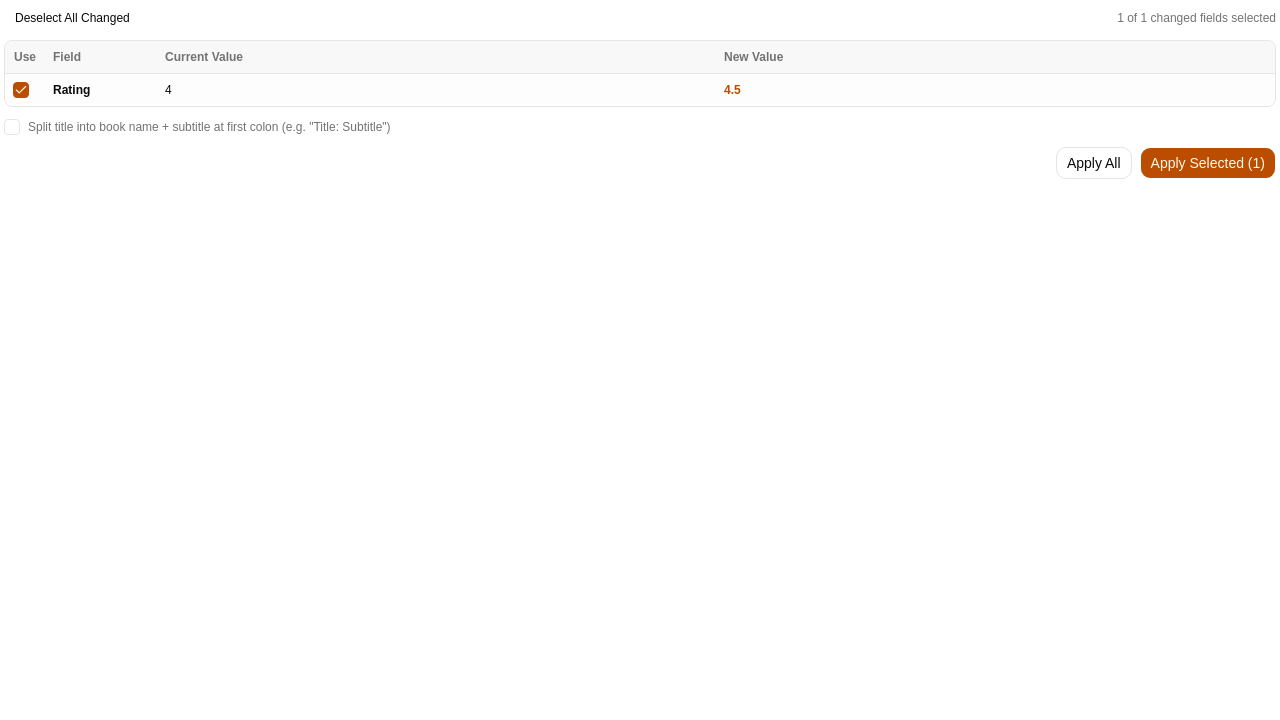
PendingRefreshRowPanel › target path collision › applies nothing when the user cancels the dialog
The width and height of the screenshot is (1280, 720).
Click the button "Apply Selected (1)" at (1208, 163), box [1140,147,1276,179]
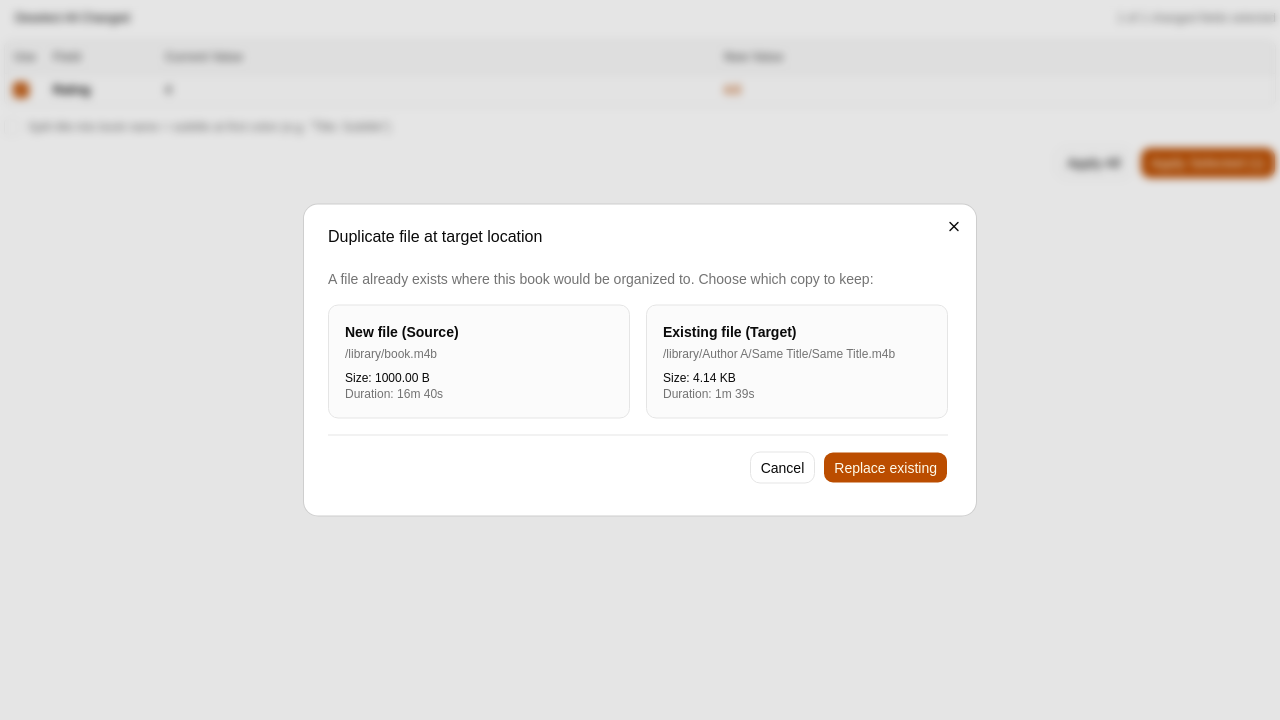
Click the button "Cancel" at (782, 468), box [750,452,815,484]
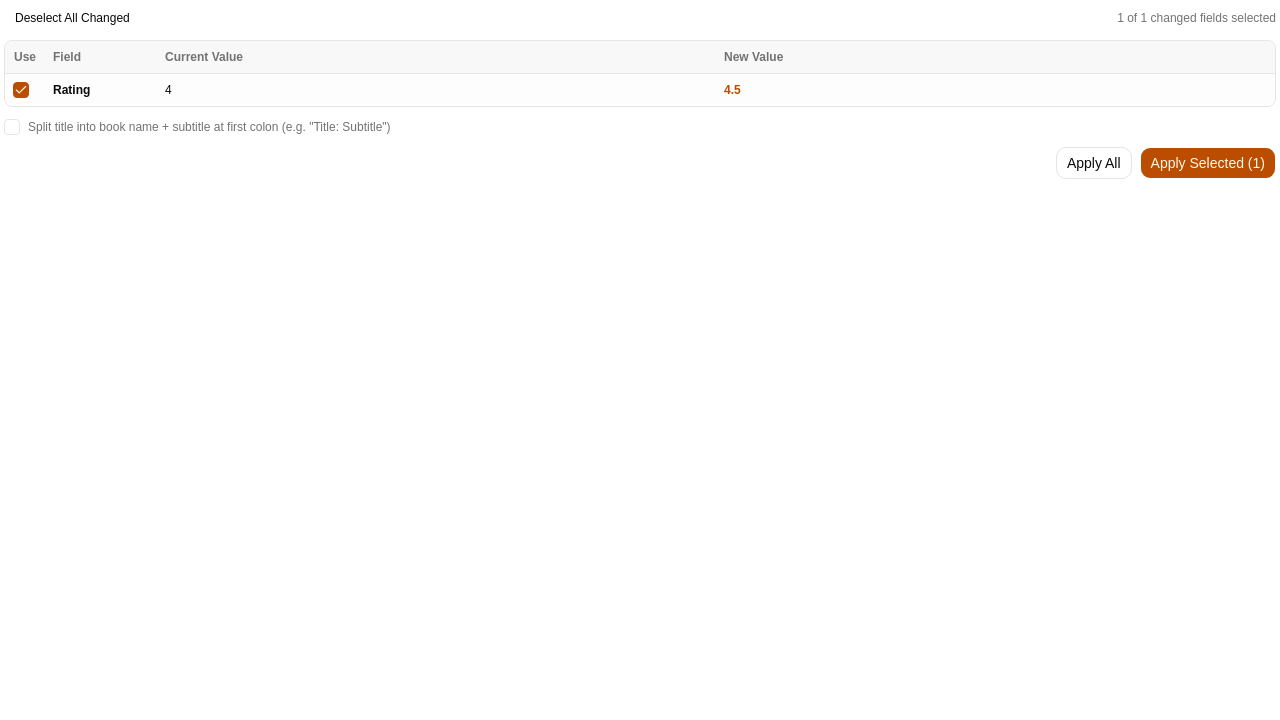
Result: the heading "Duplicate file at target location" is gone
